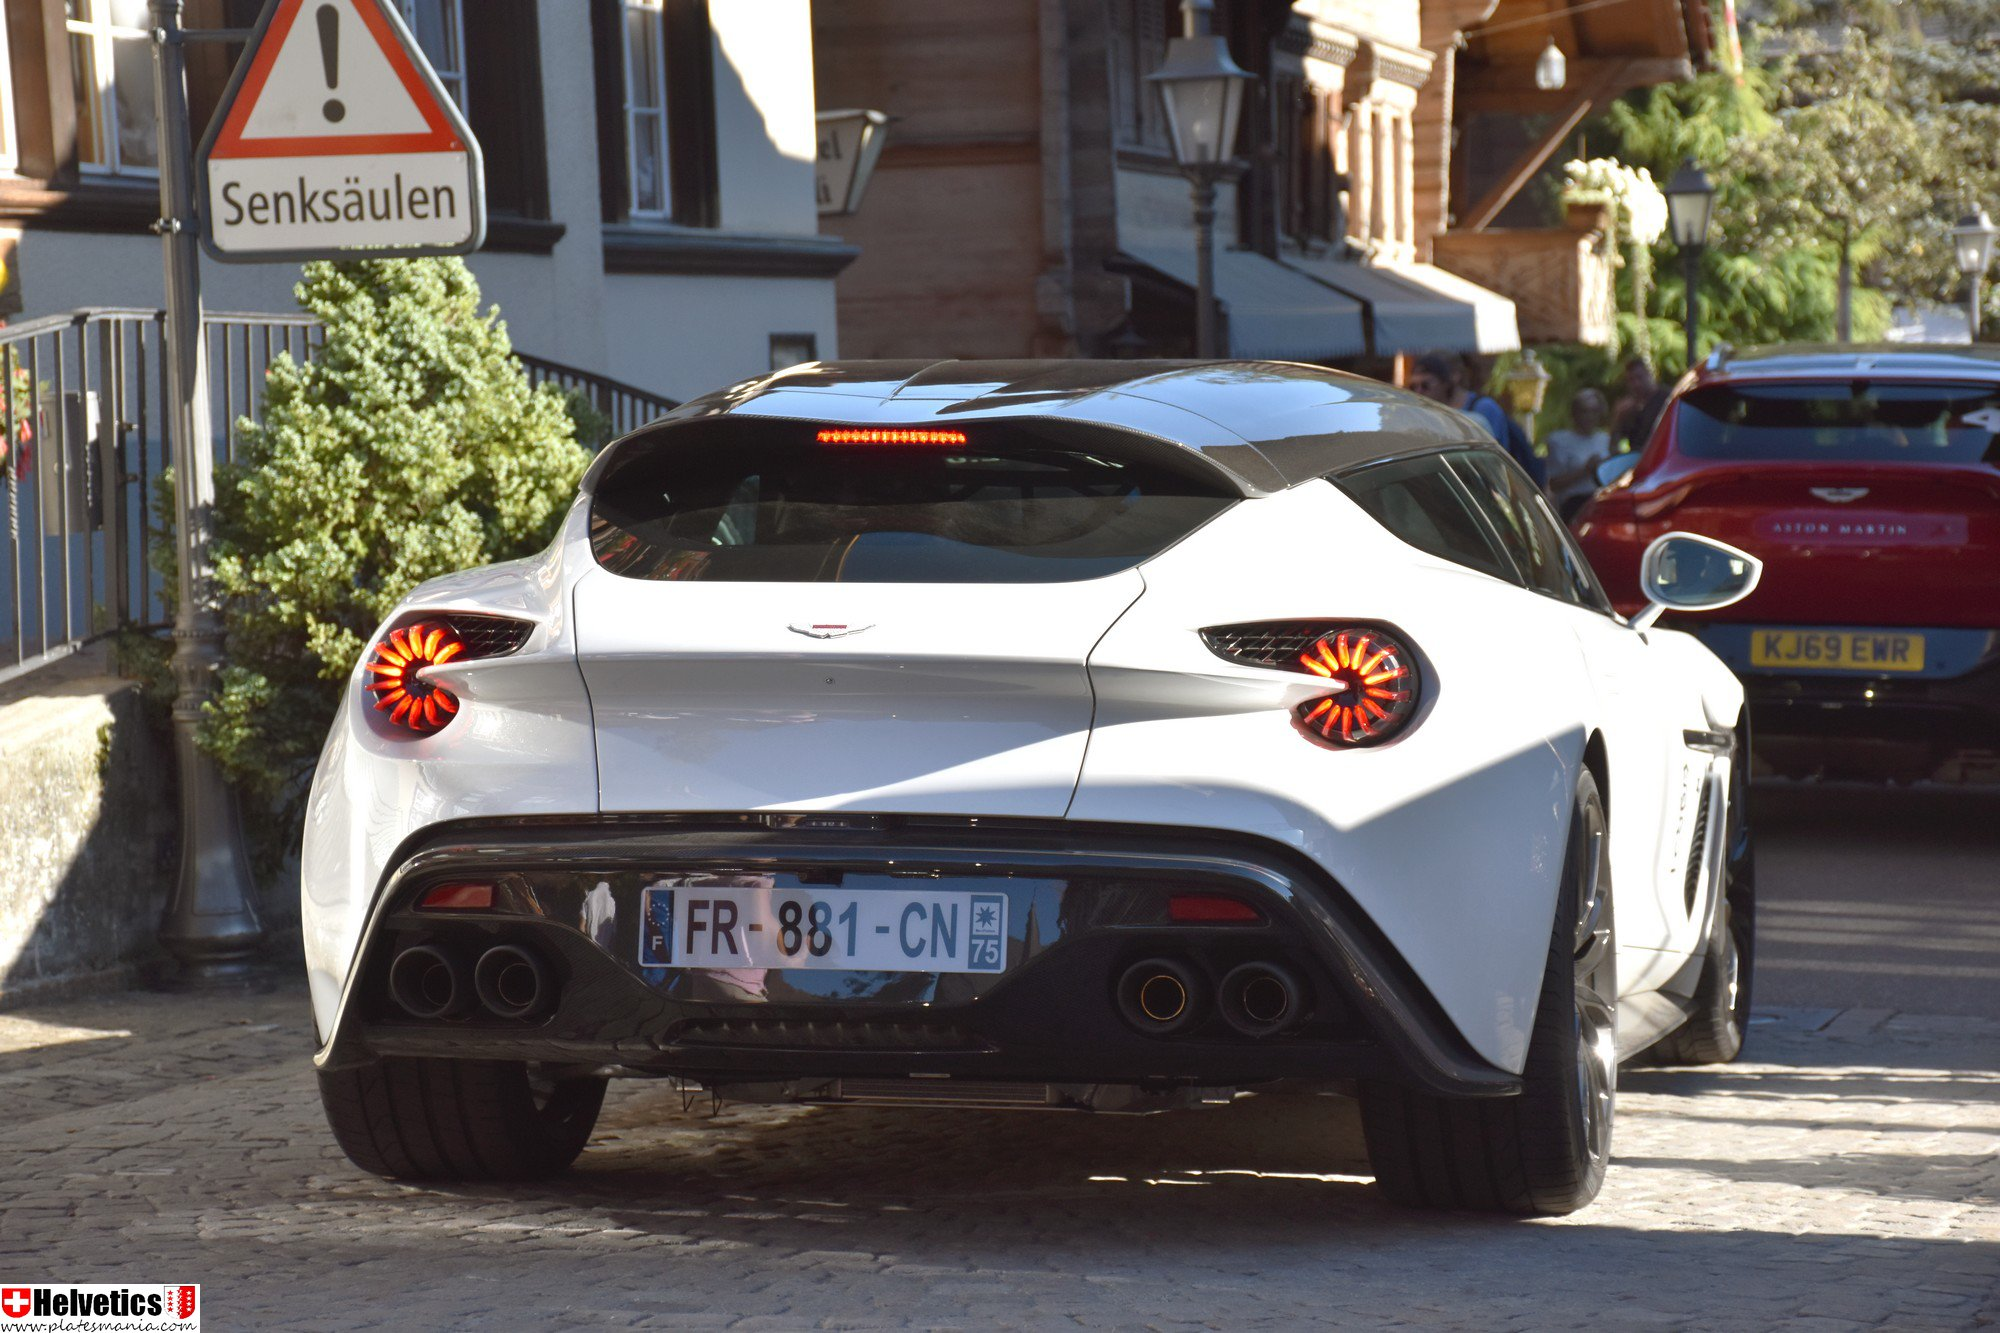licence plate: (631, 886, 1021, 973)
